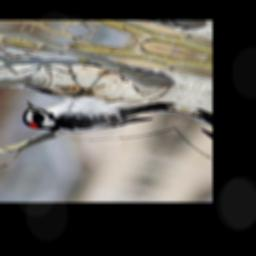Woodpecker: (14, 73, 180, 153)
